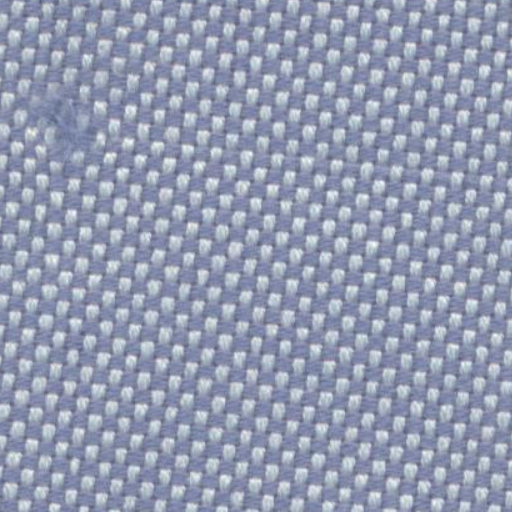MianQiu: (14, 56, 144, 198)
